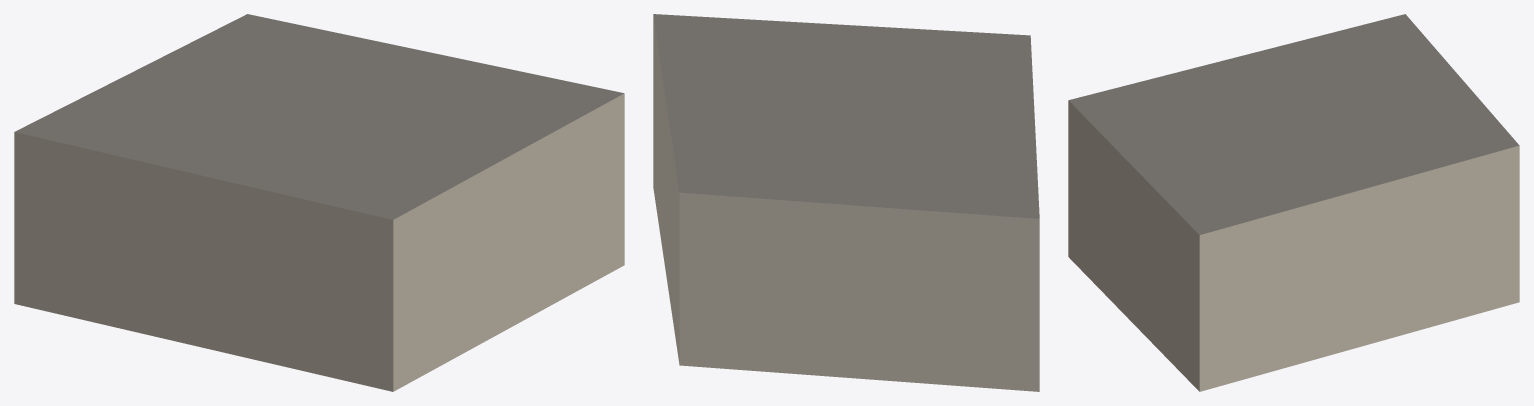
3 views of the same model, side by side, from view 1: azimuth 30°, elevation 25°; view 2: azimuth 150°, elevation 25°; view 3: azimuth 270°, elevation 25° (orthographic). The views are drawn at different scales.
Parts seen in each view (by area): view 1: HP-w350277174; view 2: HP-w350277174; view 3: HP-w350277174.
Part boxes in pixels (x1,y1,x2,y2): HP-w350277174: [14, 14, 624, 391]; HP-w350277174: [653, 14, 1039, 391]; HP-w350277174: [1068, 14, 1519, 391].
Size of the model in its own units: 54.47 by 18 by 46.95.
